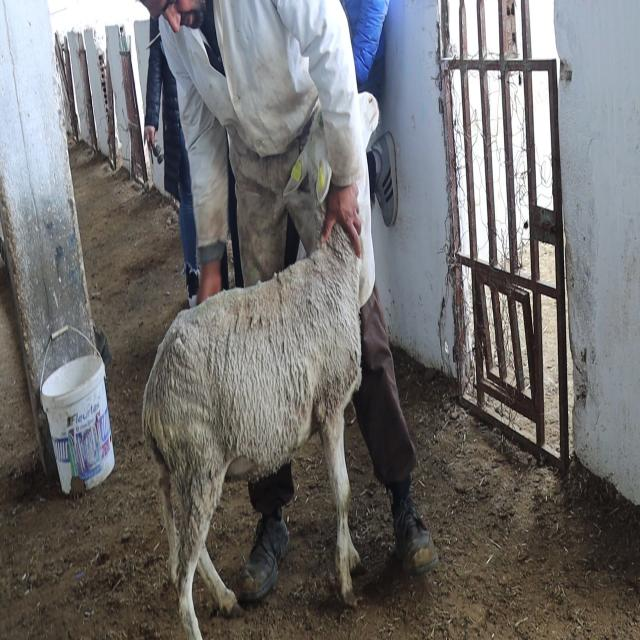Score_1: (142, 104, 361, 639)
